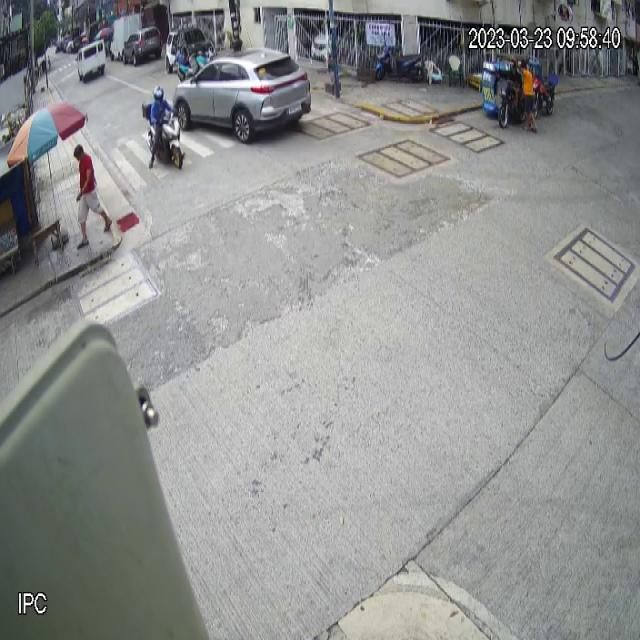Car: (171, 46, 312, 143)
Tricycle: (478, 51, 532, 130)
